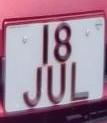1: (34, 22, 54, 69)
3: (24, 64, 44, 110)
B: (51, 21, 77, 67)
L: (67, 55, 93, 105)
U: (45, 62, 69, 107)
